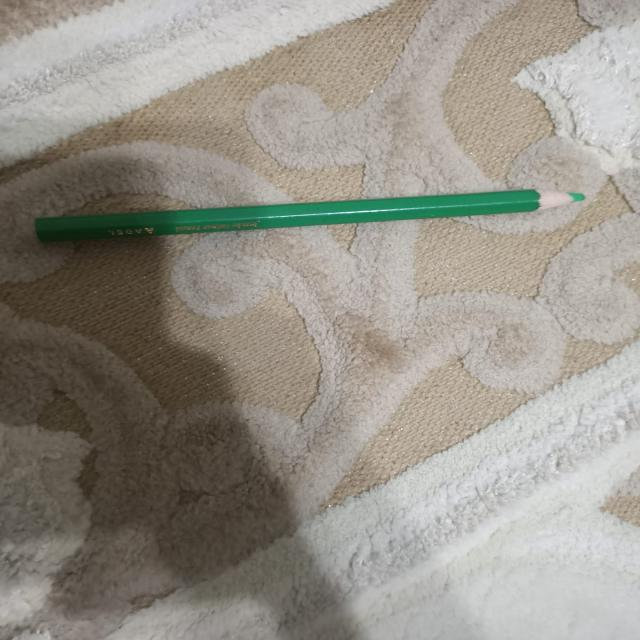pencil: (27, 184, 597, 252)
